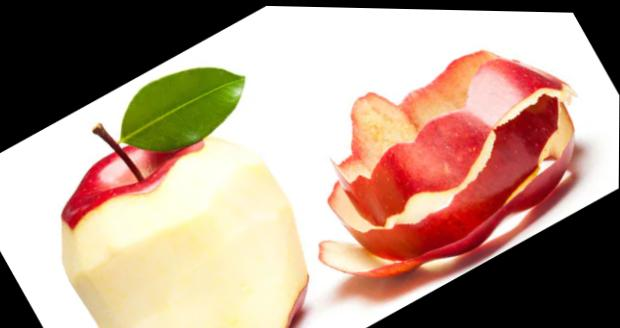organic: (265, 0, 619, 327), (0, 13, 364, 327)
